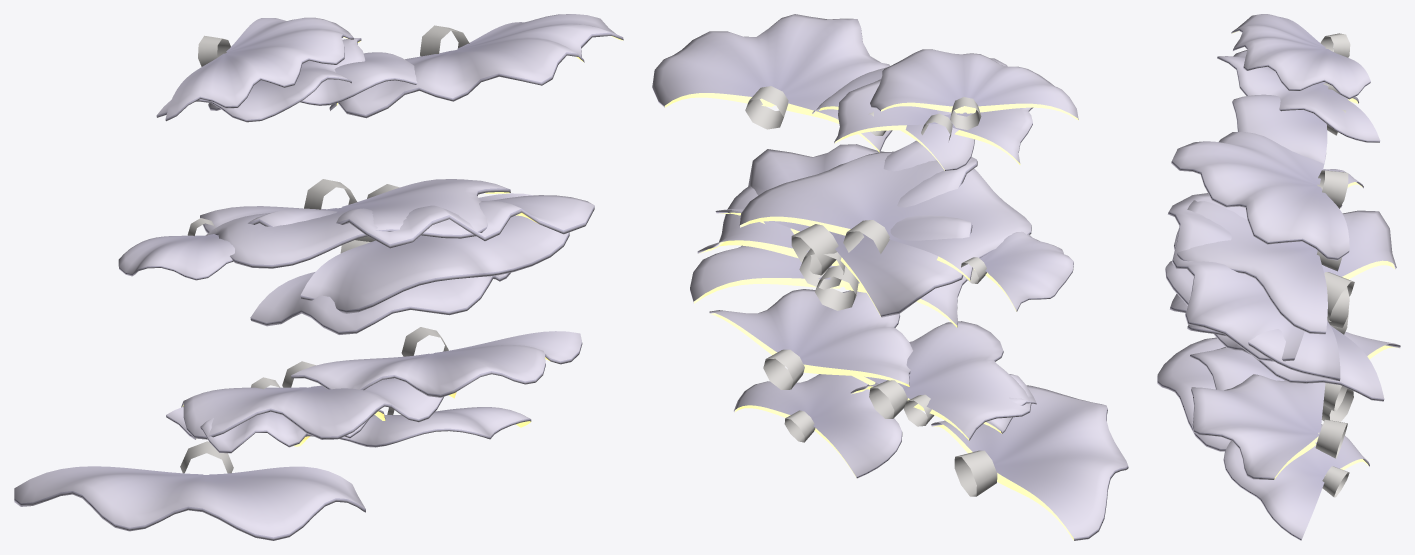
File: oyster.glb
3 views of the same model, side by side, from view 1: azimuth 30°, elevation 25°; view 2: azimuth 150°, elevation 25°; view 3: azimuth 270°, elevation 25° (orthographic). The views are drawn at different scales.
Visible parts, largest first — view 1: oyster; view 2: oyster; view 3: oyster.
Part boxes in pixels (x1=…): oyster: x1=14, y1=14, x2=623, y2=540; oyster: x1=652, y1=14, x2=1128, y2=540; oyster: x1=1157, y1=14, x2=1400, y2=540.
Size of the model in its own units: 3.15 by 2.58 by 1.41.
